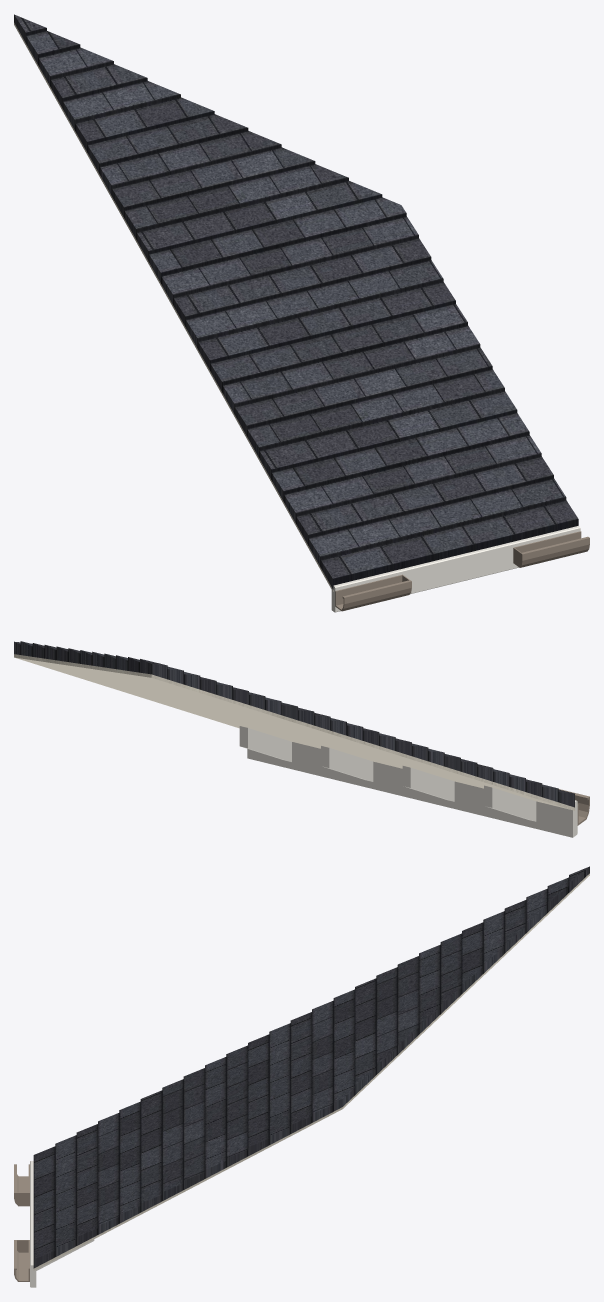
Rendered from roof_hip_3_chimney.glb.
3 views of the same model, one above another, from view 1: azimuth 30°, elevation 25°; view 2: azimuth 150°, elevation 25°; view 3: azimuth 270°, elevation 25° (orthographic). The views are drawn at different scales.
Parts seen in each view (by area): view 1: roof_hip_3_chimney_shingles, roof_hip_3_chimney_trim, roof_hip_3_chimney_gutter, roof_hip_3_chimney_plaster; view 2: roof_hip_3_chimney_trim, roof_hip_3_chimney_plaster, roof_hip_3_chimney_shingles, roof_hip_3_chimney_gutter; view 3: roof_hip_3_chimney_shingles, roof_hip_3_chimney_plaster, roof_hip_3_chimney_gutter, roof_hip_3_chimney_trim.
Boxes of the visible parts, <box> form: roof_hip_3_chimney_shingles: <box>14,14,578,589</box>; roof_hip_3_chimney_trim: <box>331,526,580,612</box>; roof_hip_3_chimney_gutter: <box>335,531,589,611</box>; roof_hip_3_chimney_plaster: <box>14,22,333,591</box>; roof_hip_3_chimney_trim: <box>239,726,577,837</box>; roof_hip_3_chimney_plaster: <box>14,654,574,810</box>; roof_hip_3_chimney_shingles: <box>14,641,574,807</box>; roof_hip_3_chimney_gutter: <box>558,789,589,825</box>; roof_hip_3_chimney_shingles: <box>33,866,589,1268</box>; roof_hip_3_chimney_plaster: <box>33,873,589,1270</box>; roof_hip_3_chimney_gutter: <box>14,1164,29,1281</box>; roof_hip_3_chimney_trim: <box>30,1161,94,1287</box>.
Bounding box in the file's own units: 2 × 2.83 × 4.66.
4 materials, 2 textured.
